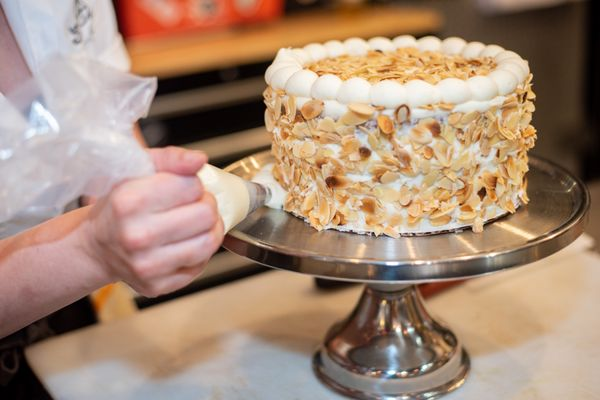curry: (9, 263, 599, 394)
sushi: (260, 33, 538, 236)
